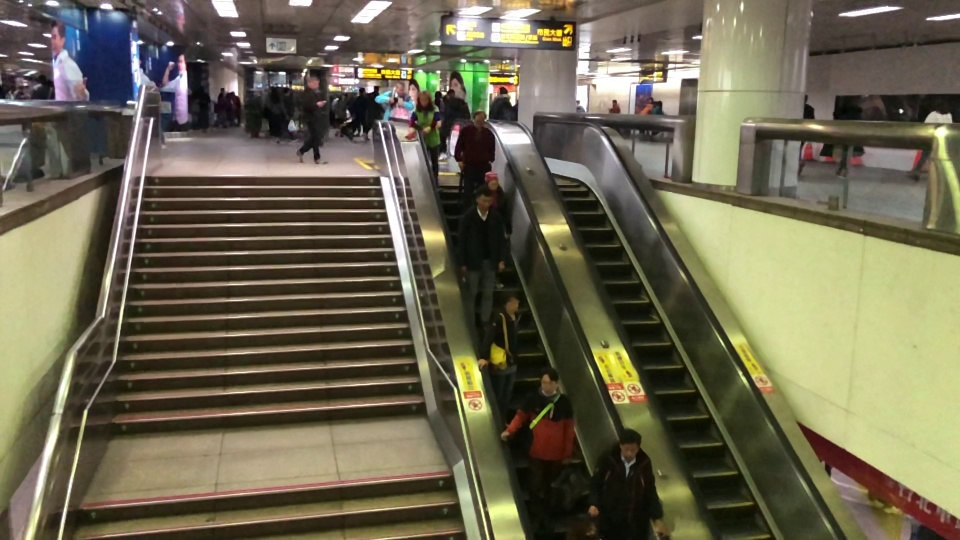person_head: (618, 428, 642, 457), (537, 367, 560, 394), (574, 515, 599, 539), (499, 286, 521, 313), (474, 185, 494, 206), (418, 89, 432, 108), (934, 97, 950, 113), (472, 109, 486, 126), (485, 172, 499, 189), (307, 76, 320, 88), (395, 81, 405, 94), (36, 74, 46, 85), (499, 86, 509, 94), (841, 95, 851, 103), (447, 88, 455, 97), (358, 87, 365, 96), (283, 86, 290, 94), (434, 91, 442, 98), (271, 84, 277, 92), (219, 87, 224, 95), (647, 97, 653, 103), (374, 85, 379, 92), (657, 99, 662, 106), (804, 94, 807, 103), (576, 98, 580, 104), (612, 98, 616, 103)
person_vbox: (500, 366, 576, 535), (587, 428, 672, 540), (454, 185, 506, 335), (477, 286, 522, 428), (904, 97, 953, 186), (454, 110, 496, 208), (819, 95, 864, 180), (483, 172, 514, 291), (408, 91, 442, 189), (295, 75, 329, 166), (439, 89, 470, 163), (374, 81, 413, 123), (798, 93, 815, 177), (264, 84, 286, 144), (281, 86, 299, 142), (489, 86, 515, 120), (366, 84, 381, 142), (211, 87, 227, 129), (352, 88, 366, 136), (31, 74, 54, 100), (434, 91, 444, 123), (639, 95, 652, 115), (651, 100, 663, 114), (609, 98, 619, 113), (575, 98, 585, 111)
